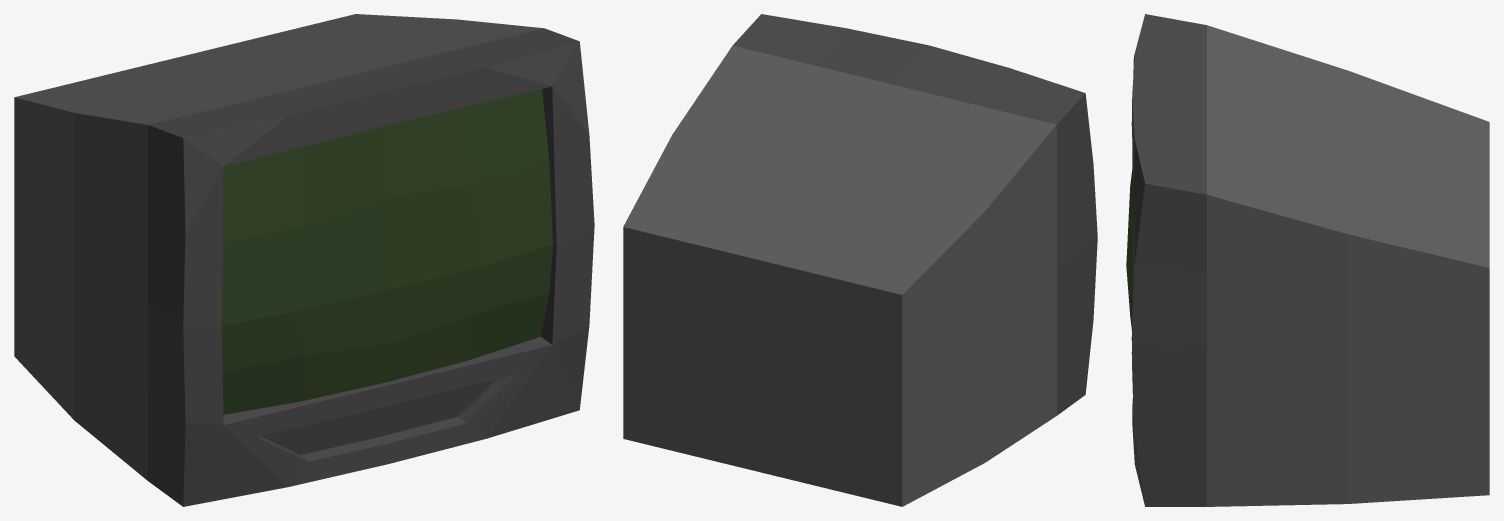
File: TelevisionSet1.fbx
3 renders of one model, left to right at view 1: azimuth 30°, elevation 25°; view 2: azimuth 150°, elevation 25°; view 3: azimuth 270°, elevation 25°, orthographic. The views are drawn at different scales.
Visible parts, largest first — view 1: Cube.002; view 2: Cube.002; view 3: Cube.002.
Boxes of the visible parts, bbox=[...] form: Cube.002: bbox=[14, 14, 594, 506]; Cube.002: bbox=[623, 14, 1097, 506]; Cube.002: bbox=[1126, 14, 1489, 506].
Bounding box in the file's own units: 0.846 × 0.7338 × 0.7383.
